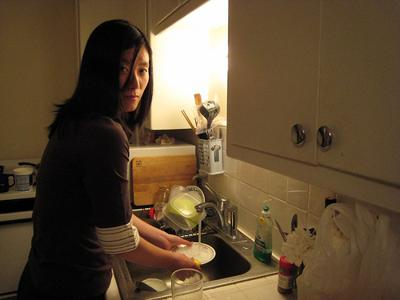person: (17, 20, 205, 300)
